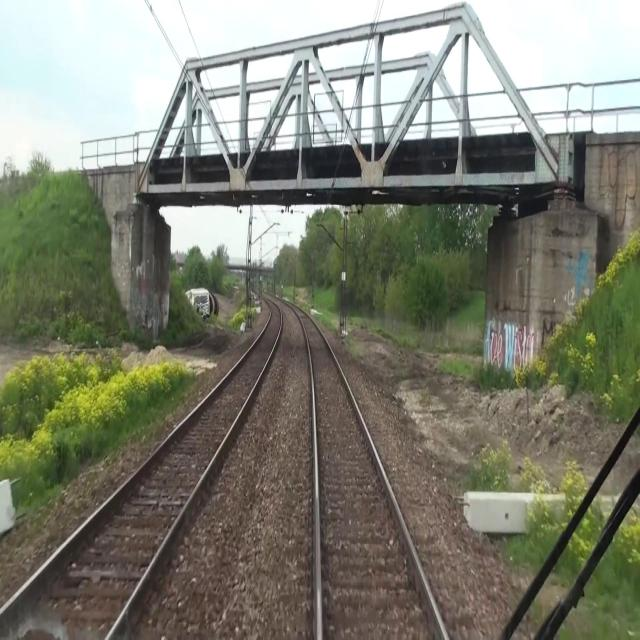rail-track: (0, 302, 280, 639), (294, 306, 443, 639)
